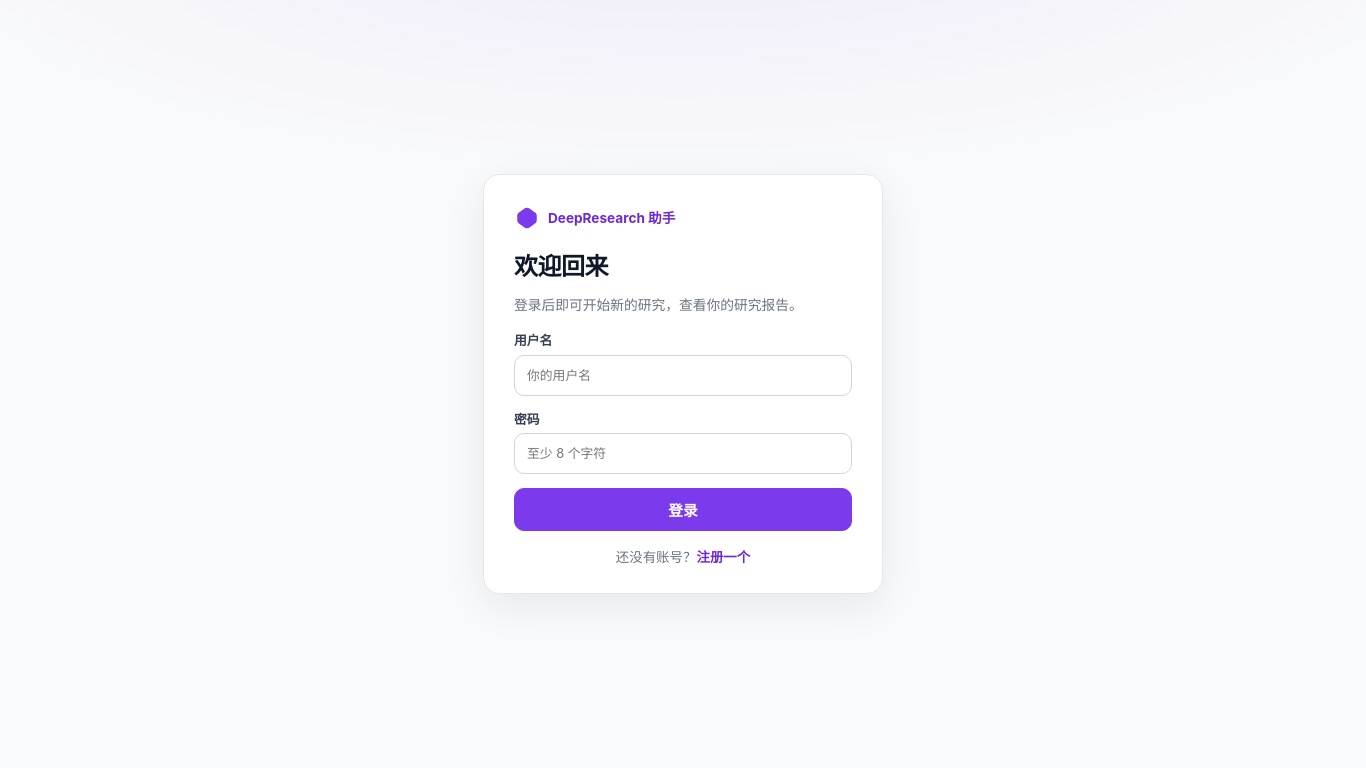
Test case: App routing and session guard › redirects a signed-out visitor to #/login, then to the chat page after login
Type "alice" into the field labelled "用户名" at [683, 375], box [514,354,852,396]
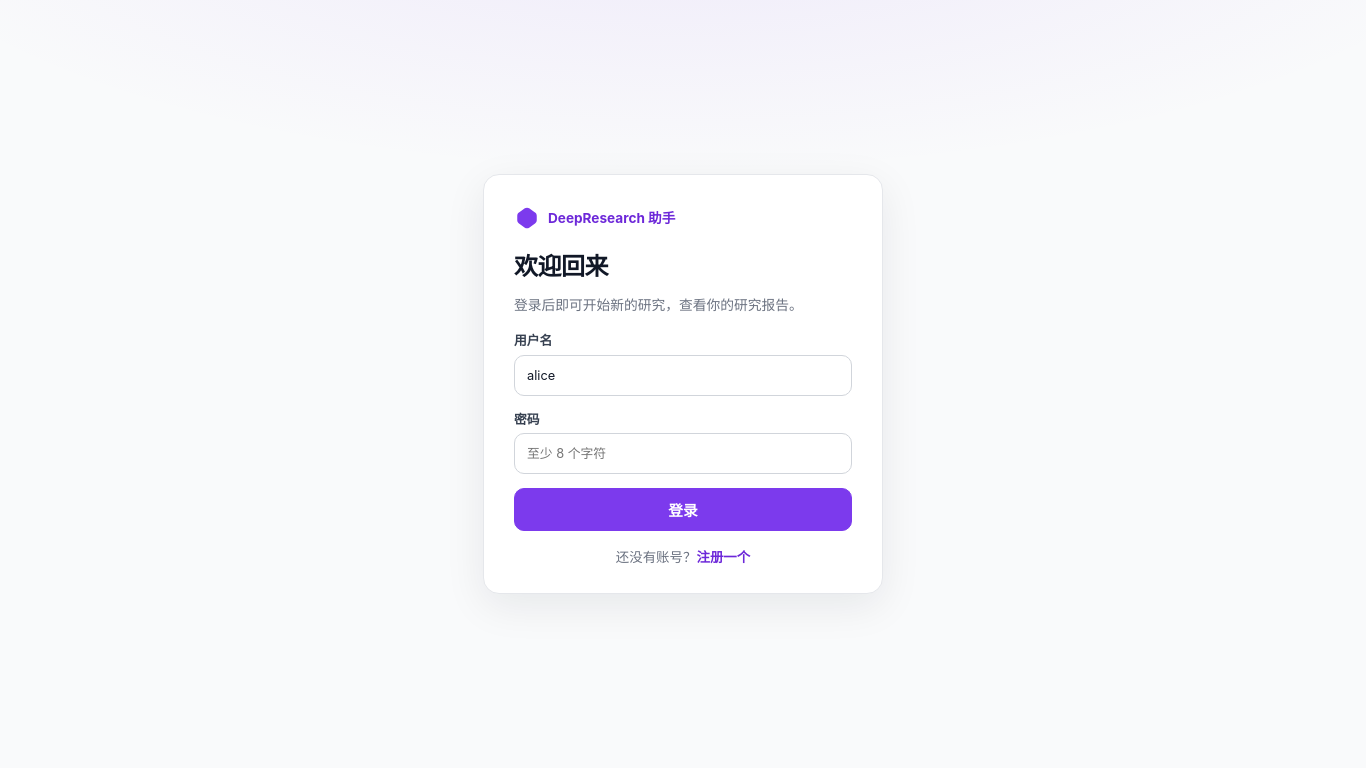
Type "password123" into the password field labelled "密码" at [683, 454], box [514,433,852,474]
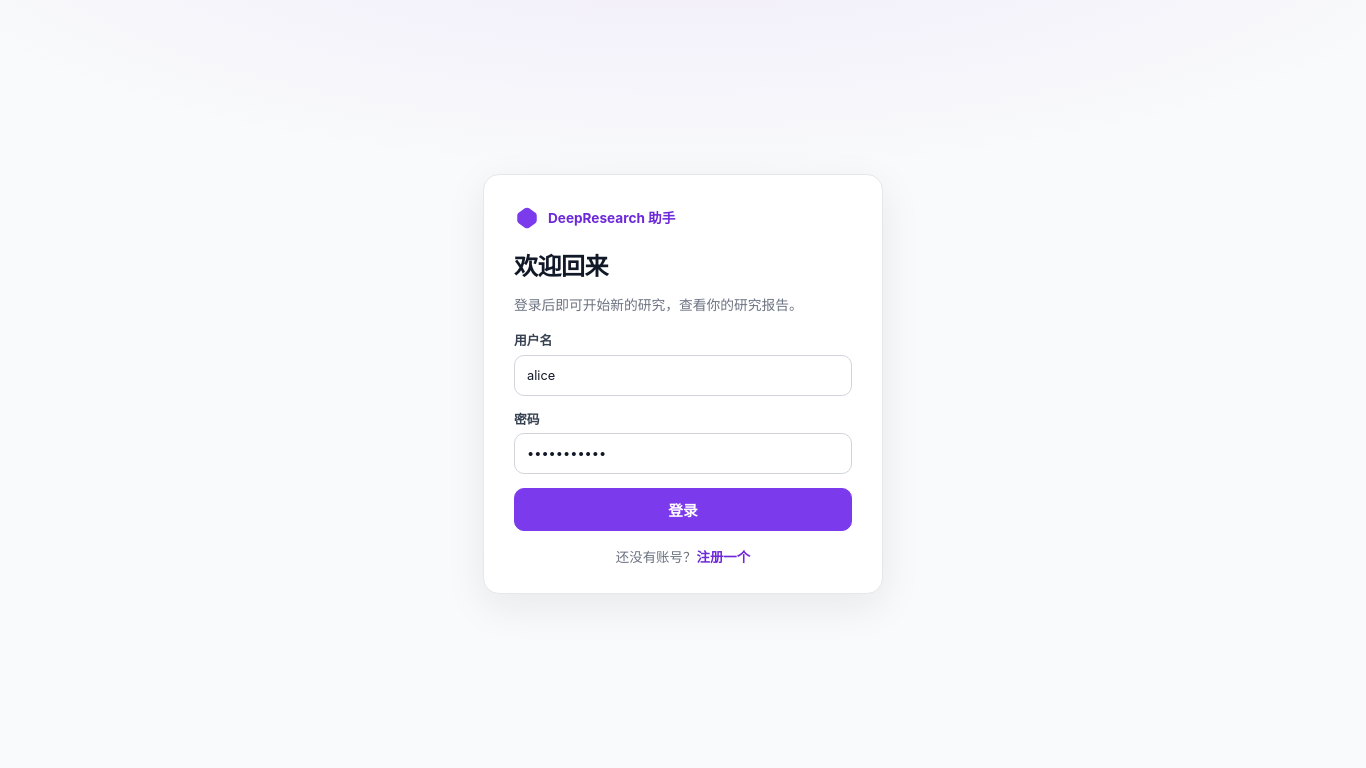
Submit the form, box [514,331,852,531]
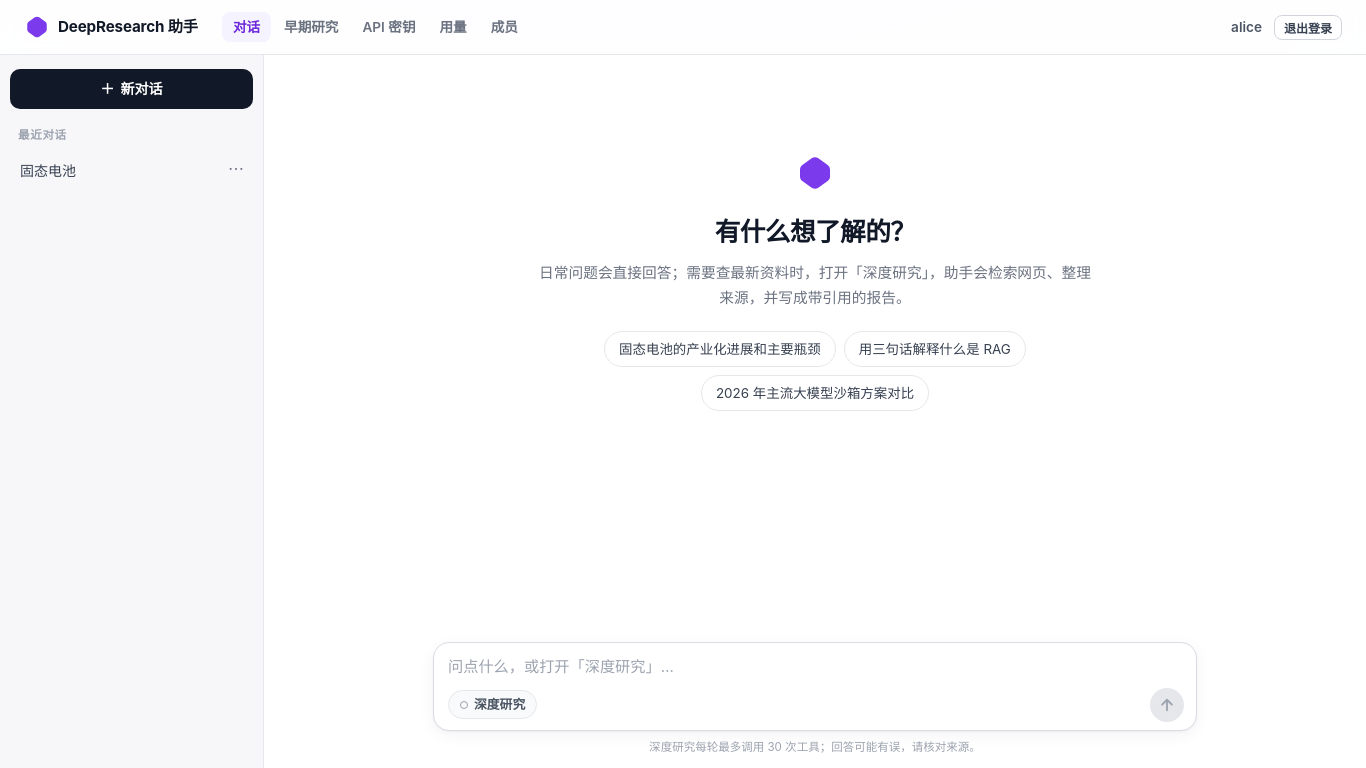
Now the element with class "chat-view" is shown
Now the text with test id "username" reads "alice", box [1231,19,1262,35]
Now the list item "固态电池 ⋯" is shown, box [10,152,253,189]
